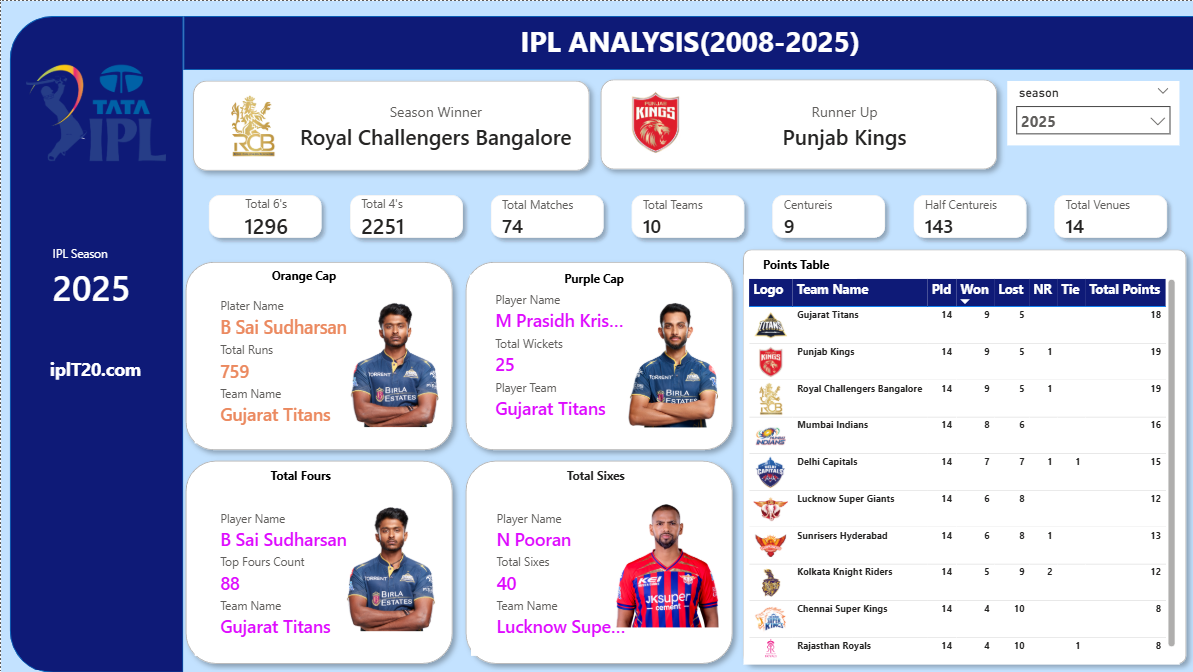

The page's visual inventory and layout, read from the dashboard file:
{"tool":"powerbi","page":{"name":"Page 1","canvas":[1366,768],"ordinal":0},"visuals":[{"type":"shape","box":[10,16.7,198.3,751.7],"z":0},{"type":"shape","box":[208.3,16.7,1158.3,61.7],"z":1000},{"type":"textbox","box":[588.3,18.3,401.7,61.7],"z":2000},{"type":"slicer","fields":{"Values":["ipl_matches_data.season"]},"box":[1150,91.7,196.7,73.3],"z":3000},{"type":"shape","box":[208.3,80,475,125],"z":4000},{"type":"cardVisual","fields":{"Data":["ipl_matches_data.Season Winner"]},"box":[311.7,93.3,371.7,100],"z":5000},{"type":"cardVisual","fields":{"Data":["ipl_matches_data.Season Winner Logo"]},"box":[221.7,88.3,128.3,108.3],"z":6000},{"type":"shape","box":[675,78.3,475,125],"z":7000},{"type":"cardVisual","fields":{"Data":["ipl_matches_data.Runner Up"]},"box":[778.3,93.3,371.7,100],"z":8000},{"type":"cardVisual","fields":{"Data":["ipl_matches_data.Runner Up Teeam Logo"]},"box":[683.3,0,130,196.7],"z":9000},{"type":"cardVisual","fields":{"Data":["ipl_matches_data.Total 6's","ipl_matches_data.Total 4's","ipl_matches_data.Total Matches","ipl_matches_data.Total Teams","ipl_matches_data.Centureis","ipl_matches_data.Half Centureis","ipl_matches_data.Total Venues"]},"box":[208.6,192.9,1157.1,107.1],"z":10000},{"type":"shape","box":[200,287.1,327.1,237.1],"z":11000},{"type":"cardVisual","fields":{"Data":["ipl_matches_data.Orange Cap Holder","ipl_matches_data.Orange Cap Runs","ipl_matches_data.Orange Cap Team Name"]},"box":[221.4,320,211.4,185.7],"z":12000},{"type":"textbox","box":[304.3,300,90,34.3],"z":13000},{"type":"shape","box":[520,287.1,327.1,237.1],"z":14000},{"type":"cardVisual","fields":{"Data":["ipl_matches_data.Orange Cap Image"]},"box":[347.1,300,197.1,224.3],"z":15000},{"type":"cardVisual","fields":{"Data":["ipl_matches_data.PurpleCapHolder","ipl_matches_data.PurpleCapWicketCount","ipl_matches_data.PurpleCapTeam"]},"box":[535.7,312.9,211.4,185.7],"z":16000},{"type":"textbox","box":[638.6,302.9,90,34.3],"z":17000},{"type":"cardVisual","fields":{"Data":["ipl_matches_data.PurpleCapImage"]},"box":[667.1,310,180,205.7],"z":18000},{"type":"shape","box":[200,514.3,327.1,254.3],"z":19000},{"type":"cardVisual","fields":{"Data":["ipl_matches_data.Top Fours Player Name","ipl_matches_data.Top Fours Count","ipl_matches_data.Top Fours Player Team Name"]},"box":[221.4,562.9,211.4,185.7],"z":20000},{"type":"textbox","box":[302.9,528.6,90,34.3],"z":21000},{"type":"cardVisual","fields":{"Data":["ipl_matches_data.PurpleCapImage"]},"box":[342.9,542.9,180,205.7],"z":22000},{"type":"shape","box":[520,514.3,327.1,254.3],"z":23000},{"type":"cardVisual","fields":{"Data":["ipl_matches_data.Top Six Player Name","ipl_matches_data.Top Six Count","ipl_matches_data.Top Six Player Team Name"]},"box":[537.1,562.9,211.4,185.7],"z":24000},{"type":"textbox","box":[641.4,528.6,81.4,34.3],"z":25000},{"type":"cardVisual","fields":{"Data":["ipl_matches_data.PurpleCapImage"]},"box":[657.1,538.6,180,205.7],"z":26000},{"type":"shape","box":[837.1,272.9,528.6,495.7],"z":27000},{"type":"tableEx","fields":{"Values":["teams_data.image_url","teams_data.team_name","teams_data.Matches Played","ipl_matches_data.Matches Won","ipl_matches_data.Matches Lost","ipl_matches_data.No Result Played","ipl_matches_data.Tie Played","ipl_matches_data.Total Points"]},"box":[848.6,312.9,498.6,445.7],"z":28000},{"type":"image","box":[28.6,41.4,160,172.9],"z":29000},{"type":"cardVisual","fields":{"Data":["ipl_matches_data.IPL Season"]},"box":[30,242.9,155.7,147.1],"z":30000},{"type":"actionButton","box":[44.3,392.9,127.1,52.9],"z":31000},{"type":"textbox","box":[865.7,287.1,112.9,30],"z":32000}]}

Visuals, with their boxes in screenshot pixels (x1, y1, x2, y2), scaled from the page's 1366x768 canvas onto the 1193x672 screenshot:
shape: bbox=(9, 15, 182, 671)
shape: bbox=(182, 15, 1192, 69)
textbox: bbox=(514, 16, 865, 70)
slicer - ipl_matches_data.season: bbox=(1004, 80, 1176, 144)
shape: bbox=(182, 70, 597, 179)
cardVisual - ipl_matches_data.Season Winner: bbox=(272, 82, 597, 169)
cardVisual - ipl_matches_data.Season Winner Logo: bbox=(194, 77, 306, 172)
shape: bbox=(590, 69, 1004, 178)
cardVisual - ipl_matches_data.Runner Up: bbox=(680, 82, 1004, 169)
cardVisual - ipl_matches_data.Runner Up Teeam Logo: bbox=(597, 0, 710, 172)
cardVisual - ipl_matches_data.Total 6's x ipl_matches_data.Total 4's: bbox=(182, 169, 1192, 262)
shape: bbox=(175, 251, 460, 459)
cardVisual - ipl_matches_data.Orange Cap Holder x ipl_matches_data.Orange Cap Runs: bbox=(193, 280, 378, 442)
textbox: bbox=(266, 262, 344, 293)
shape: bbox=(454, 251, 740, 459)
cardVisual - ipl_matches_data.Orange Cap Image: bbox=(303, 262, 475, 459)
cardVisual - ipl_matches_data.PurpleCapHolder x ipl_matches_data.PurpleCapWicketCount: bbox=(468, 274, 652, 436)
textbox: bbox=(558, 265, 636, 295)
cardVisual - ipl_matches_data.PurpleCapImage: bbox=(583, 271, 740, 451)
shape: bbox=(175, 450, 460, 671)
cardVisual - ipl_matches_data.Top Fours Player Name x ipl_matches_data.Top Fours Count: bbox=(193, 493, 378, 655)
textbox: bbox=(265, 463, 343, 493)
cardVisual - ipl_matches_data.PurpleCapImage: bbox=(299, 475, 457, 655)
shape: bbox=(454, 450, 740, 671)
cardVisual - ipl_matches_data.Top Six Player Name x ipl_matches_data.Top Six Count: bbox=(469, 493, 654, 655)
textbox: bbox=(560, 463, 631, 493)
cardVisual - ipl_matches_data.PurpleCapImage: bbox=(574, 471, 731, 651)
shape: bbox=(731, 239, 1192, 671)
tableEx - teams_data.image_url x teams_data.team_name: bbox=(741, 274, 1177, 664)
image: bbox=(25, 36, 165, 188)
cardVisual - ipl_matches_data.IPL Season: bbox=(26, 213, 162, 341)
actionButton: bbox=(39, 344, 150, 390)
textbox: bbox=(756, 251, 855, 277)
